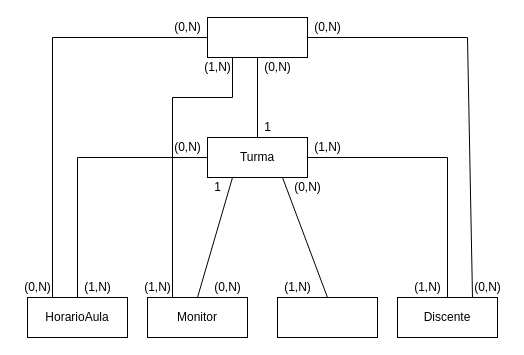
The diagram is 524 pixels wide and 355 high, and some of its shapes have lost their labels. Each missing label, with the centre of its shape:
"Atendimento" belongs at [257,37].
"Docente" belongs at [327,317].
